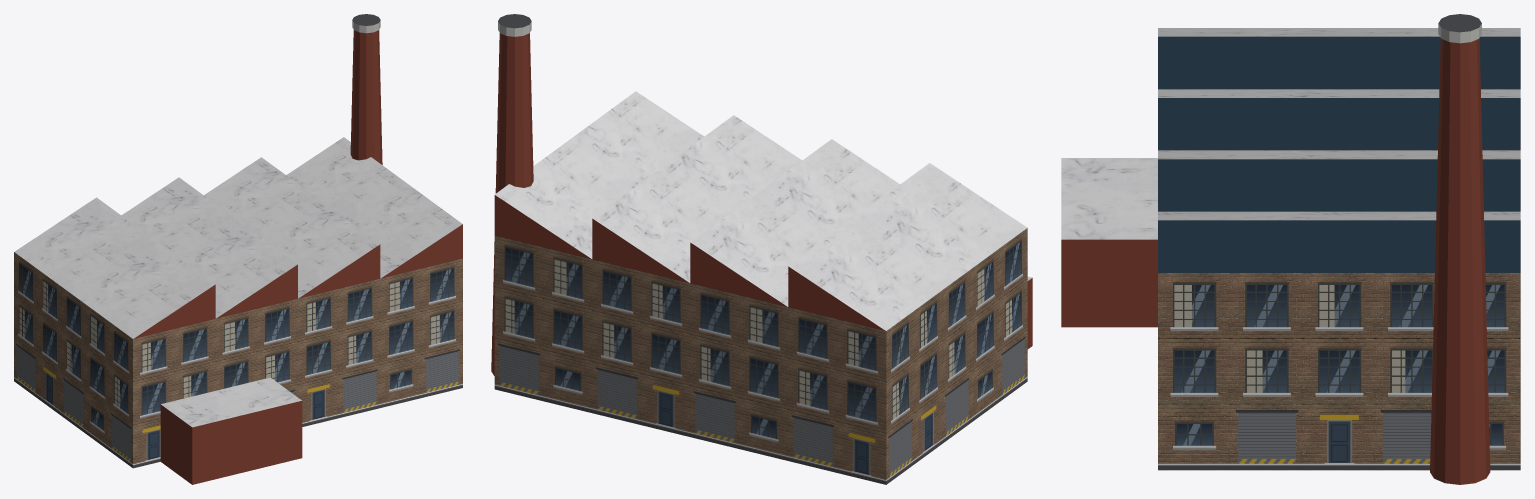
The model's file is c_factory.glb.
3 renders of one model, left to right at view 1: azimuth 30°, elevation 25°; view 2: azimuth 150°, elevation 25°; view 3: azimuth 270°, elevation 25°, orthographic. The views are drawn at different scales.
Visible parts, largest first — view 1: House; view 2: House; view 3: House.
Boxes of the visible parts, left/top/right/bottom form: House: left=14, top=14, right=462, bottom=484; House: left=491, top=14, right=1032, bottom=484; House: left=1061, top=14, right=1520, bottom=484.
Bounding box in the file's own units: 25.45 × 20.5 × 19.
Materials: 3 (3 with a texture image).
